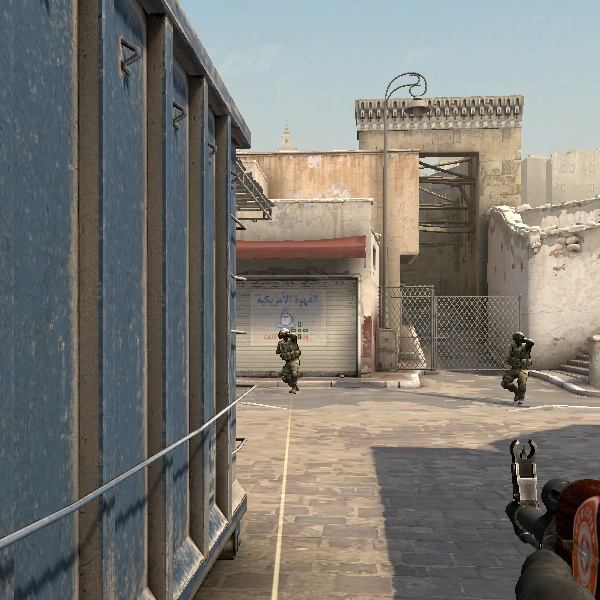ct_body: (270, 327, 305, 394)
